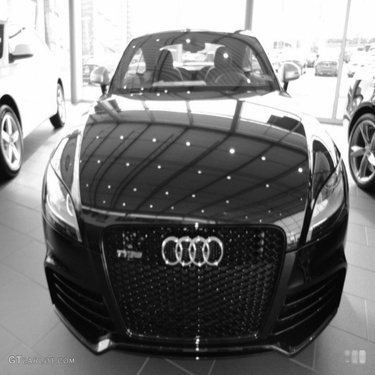car: (35, 24, 352, 360), (2, 11, 73, 185), (339, 49, 372, 198), (312, 47, 345, 79), (87, 59, 122, 88), (279, 54, 306, 82)
